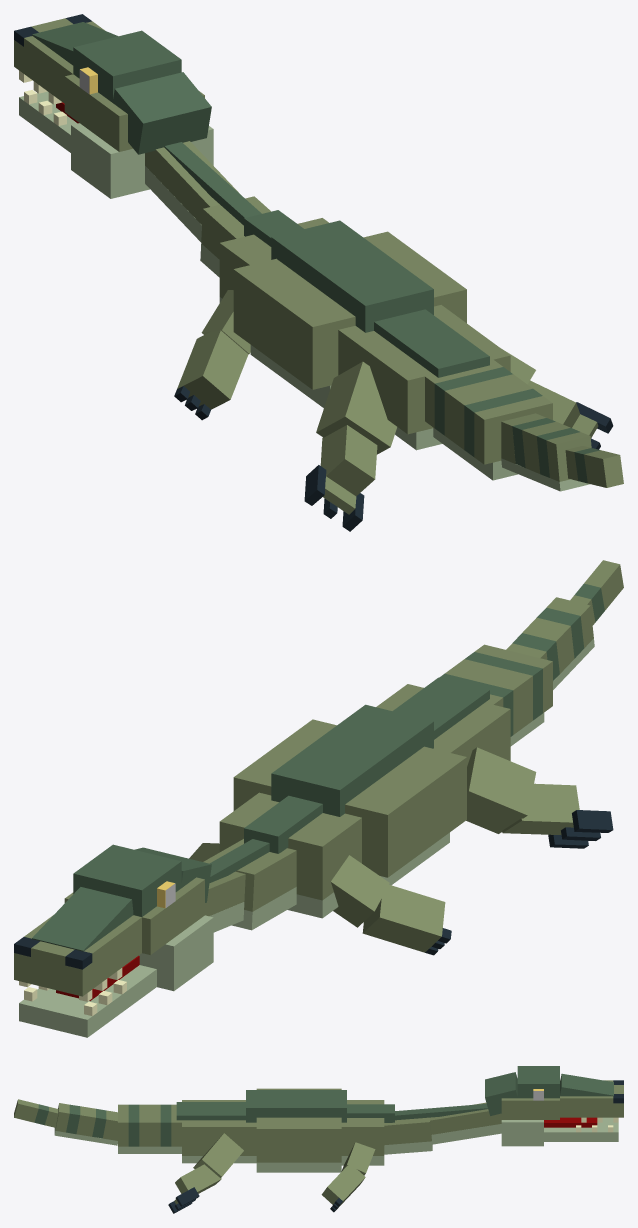
File: nothosaurus.obj
3 renders of one model, top to bottom at view 1: azimuth 30°, elevation 25°; view 2: azimuth 150°, elevation 25°; view 3: azimuth 270°, elevation 25°, orthographic. The views are drawn at different scales.
Visible parts, largest first — view 1: Head, UpperTorso, Tail, LowerTorso, LeftUpperLeg, LeftUpperArm, RightUpperLeg; view 2: Head, UpperTorso, Tail, LeftUpperLeg, LeftUpperArm, LowerTorso; view 3: Head, UpperTorso, Tail, LowerTorso, RightUpperLeg, RightUpperArm.
Part boxes in pixels (left/top/right/bottom): Head: left=14, top=14, right=270, bottom=277; UpperTorso: left=219, top=210, right=466, bottom=407; Tail: left=425, top=359, right=623, bottom=491; LowerTorso: left=338, top=305, right=510, bottom=450; LeftUpperLeg: left=304, top=361, right=396, bottom=531; LeftUpperArm: left=174, top=290, right=250, bottom=420; RightUpperLeg: left=502, top=349, right=613, bottom=449; Head: left=14, top=839, right=296, bottom=1037; UpperTorso: left=219, top=704, right=466, bottom=918; Tail: left=439, top=560, right=623, bottom=746; LeftUpperLeg: left=466, top=747, right=613, bottom=848; LeftUpperArm: left=331, top=855, right=451, bottom=955; LowerTorso: left=376, top=677, right=510, bottom=766; Head: left=384, top=1066, right=623, bottom=1154; UpperTorso: left=246, top=1088, right=394, bottom=1172; Tail: left=14, top=1099, right=181, bottom=1153; LowerTorso: left=176, top=1100, right=256, bottom=1163; RightUpperLeg: left=168, top=1133, right=243, bottom=1213; RightUpperArm: left=321, top=1142, right=375, bottom=1212.
Bounding box in the file's own units: 9.01 × 5.61 × 28.64.
